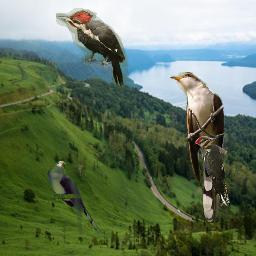Cuckoo: (169, 72, 225, 223), (47, 160, 105, 235)
Woodpecker: (56, 8, 131, 89), (195, 136, 231, 207)
